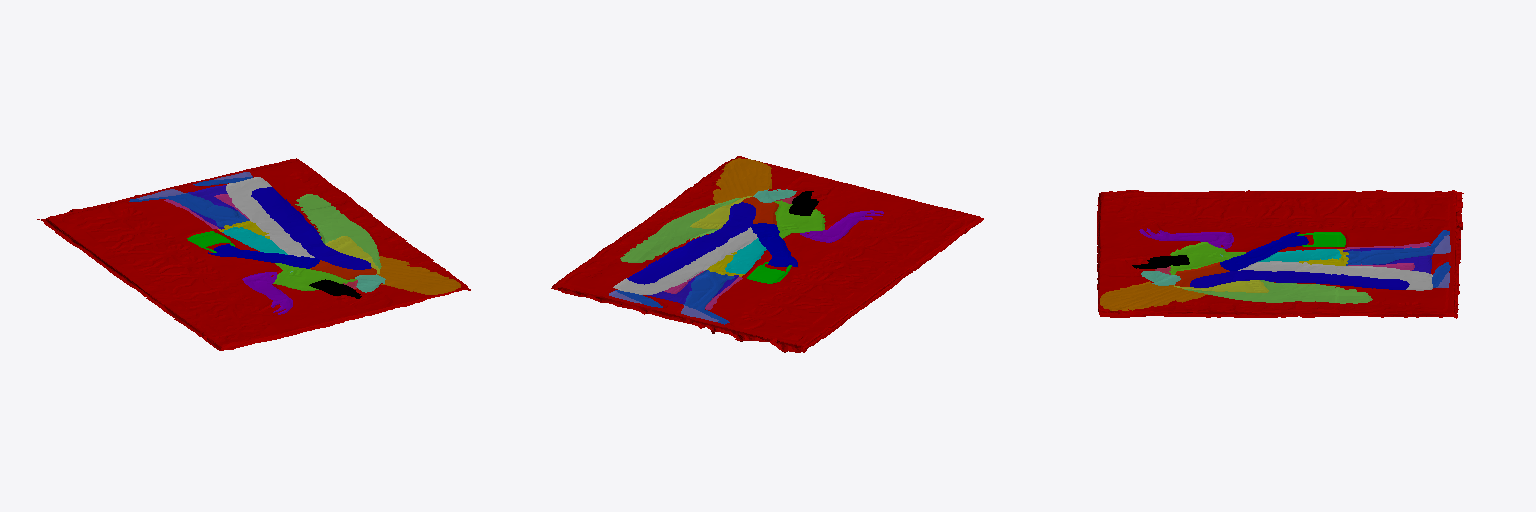
The model's file is blendertest.obj.
The picture shows the model from 3 angles: view 1: azimuth 30°, elevation 25°; view 2: azimuth 150°, elevation 25°; view 3: azimuth 270°, elevation 25°; orthographic projection.
Parts seen in each view (by area): view 1: trim2_simpleeee; view 2: trim2_simpleeee; view 3: trim2_simpleeee.
Part boxes in pixels (left/top/right/bottom): trim2_simpleeee: left=37, top=158, right=470, bottom=350; trim2_simpleeee: left=551, top=156, right=983, bottom=352; trim2_simpleeee: left=1097, top=190, right=1463, bottom=318.
Bounding box in the file's own units: 1.4 × 0.0669 × 1.73.